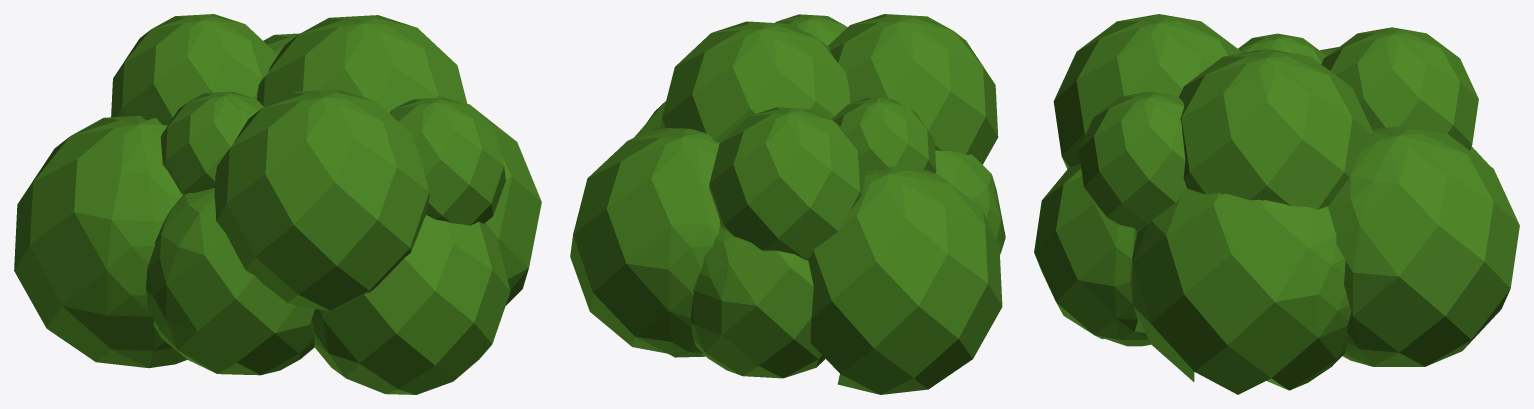
Rendered from Bush.fbx.
The picture shows the model from 3 angles, left to right: view 1: azimuth 30°, elevation 25°; view 2: azimuth 150°, elevation 25°; view 3: azimuth 270°, elevation 25°; orthographic projection. The views are drawn at different scales.
Visible parts, largest first — view 1: leaves; view 2: leaves; view 3: leaves.
Part boxes in pixels (<box>): leaves: <box>14,14,541,394</box>; leaves: <box>570,14,1005,394</box>; leaves: <box>1034,14,1519,394</box>.
Bounding box in the file's own units: 11.65 × 11.54 × 7.67.
